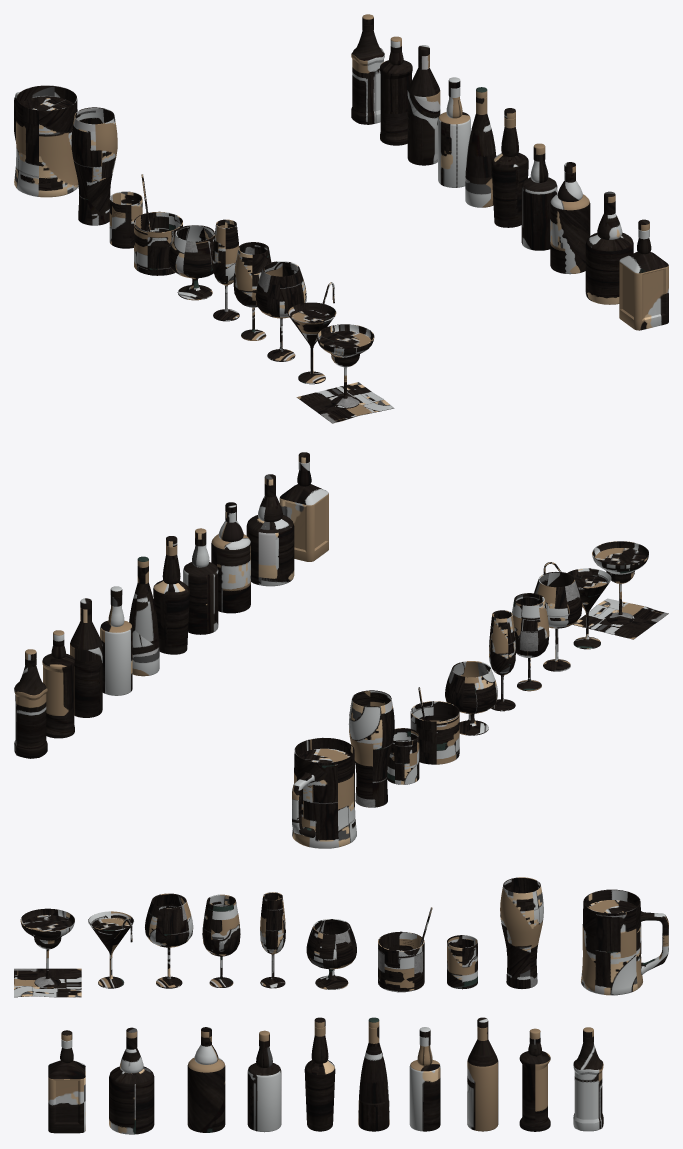
File: Bar_props.glb
3 renders of one model, top to bottom at view 1: azimuth 30°, elevation 25°; view 2: azimuth 150°, elevation 25°; view 3: azimuth 270°, elevation 25°, orthographic. The views are drawn at different scales.
Parts seen in each view (by area): view 1: SM_glasses_10, SM_glasses_9, Bottle_1, Bottle_9, Bottle_4, Bottle_3, Bottle_10, Bottle_2, Bottle_6, Bottle_5, Bottle_8, SM_glasses_3 (+10 smaller); view 2: SM_glasses_10, SM_glasses_9, Bottle_4, Bottle_1, Bottle_9, Bottle_10, Bottle_3, Bottle_6, Bottle_2, Bottle_8, SM_glasses_6, Bottle_5 (+10 smaller); view 3: SM_glasses_10, SM_glasses_9, Bottle_4, Bottle_9, Bottle_1, Bottle_3, Bottle_5, SM_glasses_7, Bottle_8, Bottle_7, Bottle_10, SM_glasses_3 (+11 smaller).
Boxes of the visible parts, bbox=[...] form: SM_glasses_10: bbox=[14, 85, 78, 197]; SM_glasses_9: bbox=[71, 107, 117, 225]; Bottle_1: bbox=[619, 219, 668, 330]; Bottle_9: bbox=[550, 162, 590, 274]; Bottle_4: bbox=[585, 191, 633, 304]; Bottle_3: bbox=[407, 45, 440, 165]; Bottle_10: bbox=[491, 108, 528, 227]; Bottle_2: bbox=[380, 36, 412, 145]; Bottle_6: bbox=[351, 14, 384, 124]; Bottle_5: bbox=[521, 143, 557, 250]; Bottle_8: bbox=[438, 77, 470, 187]; SM_glasses_3: bbox=[255, 261, 306, 361]; SM_glasses_10: bbox=[292, 737, 356, 848]; SM_glasses_9: bbox=[348, 690, 394, 807]; Bottle_4: bbox=[246, 474, 294, 586]; Bottle_1: bbox=[279, 452, 328, 561]; Bottle_9: bbox=[211, 502, 250, 613]; Bottle_10: bbox=[153, 536, 189, 654]; Bottle_3: bbox=[70, 598, 102, 717]; Bottle_6: bbox=[14, 649, 47, 758]; Bottle_2: bbox=[42, 630, 74, 738]; Bottle_8: bbox=[100, 586, 132, 695]; SM_glasses_6: bbox=[445, 661, 497, 735]; Bottle_5: bbox=[183, 528, 218, 634]; SM_glasses_10: bbox=[581, 889, 668, 995]; SM_glasses_9: bbox=[500, 877, 543, 988]; Bottle_4: bbox=[109, 1027, 154, 1134]; Bottle_9: bbox=[187, 1027, 225, 1132]; Bottle_1: bbox=[48, 1030, 85, 1133]; Bottle_3: bbox=[467, 1017, 498, 1131]; Bottle_5: bbox=[247, 1030, 281, 1132]; SM_glasses_7: bbox=[378, 931, 424, 992]; Bottle_8: bbox=[409, 1027, 440, 1131]; Bottle_7: bbox=[358, 1017, 389, 1131]; Bottle_10: bbox=[304, 1017, 335, 1131]; SM_glasses_3: bbox=[145, 893, 193, 988].
Size of the model in its own units: 1.01 by 0.301 by 1.69.
Materials: 17 (17 with a texture image).
